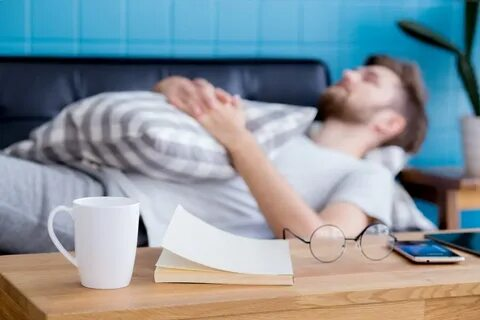sleep: (1, 54, 430, 233)
